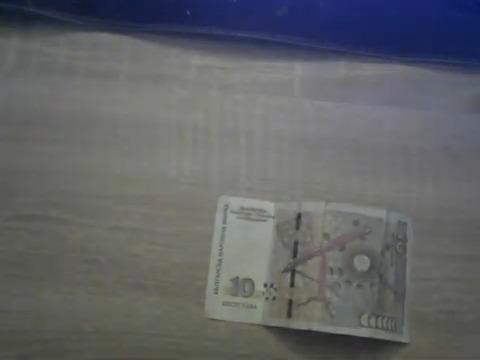10leva: (204, 196, 413, 345)
